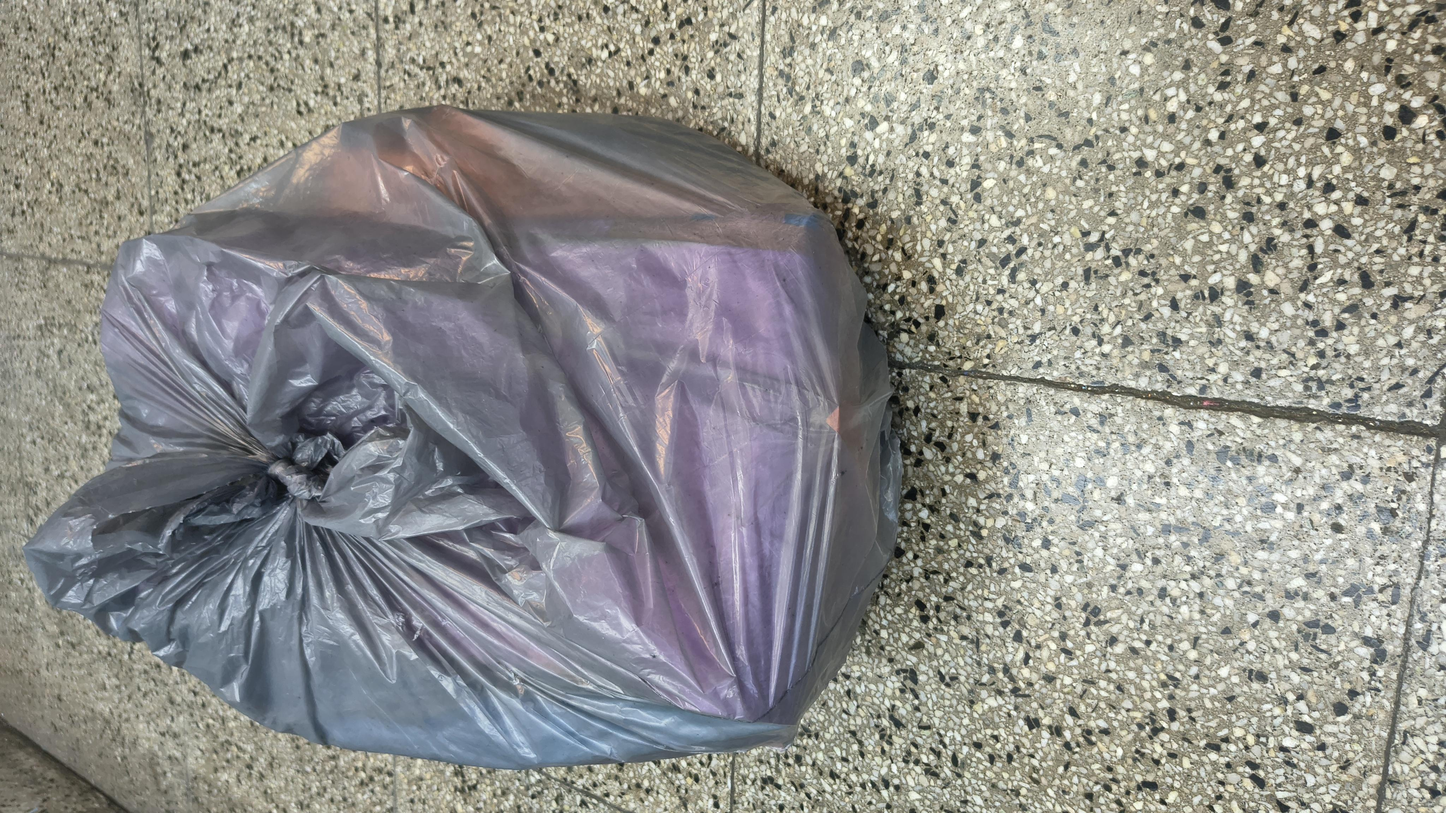Garbage: (69, 8, 1293, 522)
